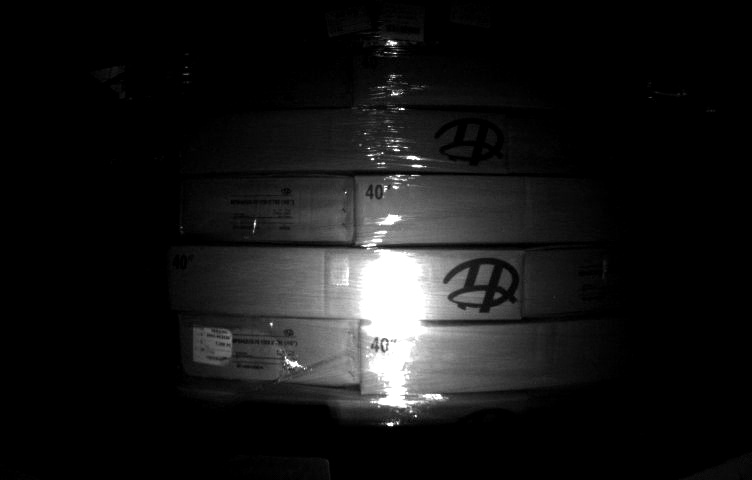True Barcode: (192, 326, 233, 368)
